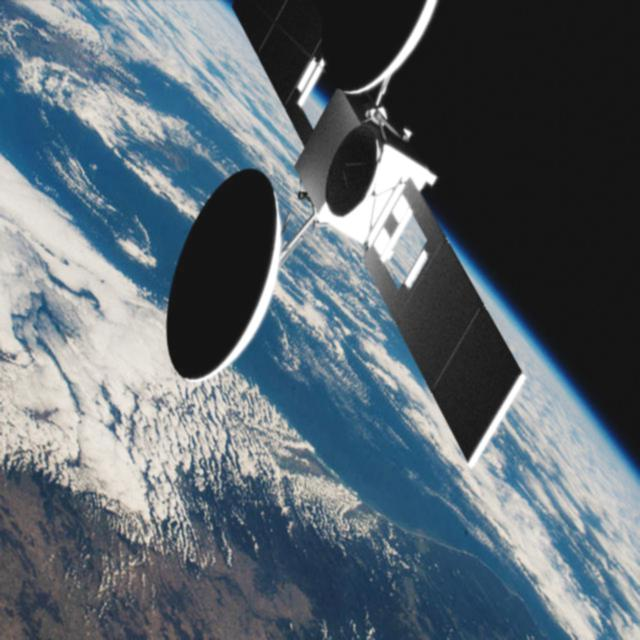satellite: (123, 0, 525, 466)
